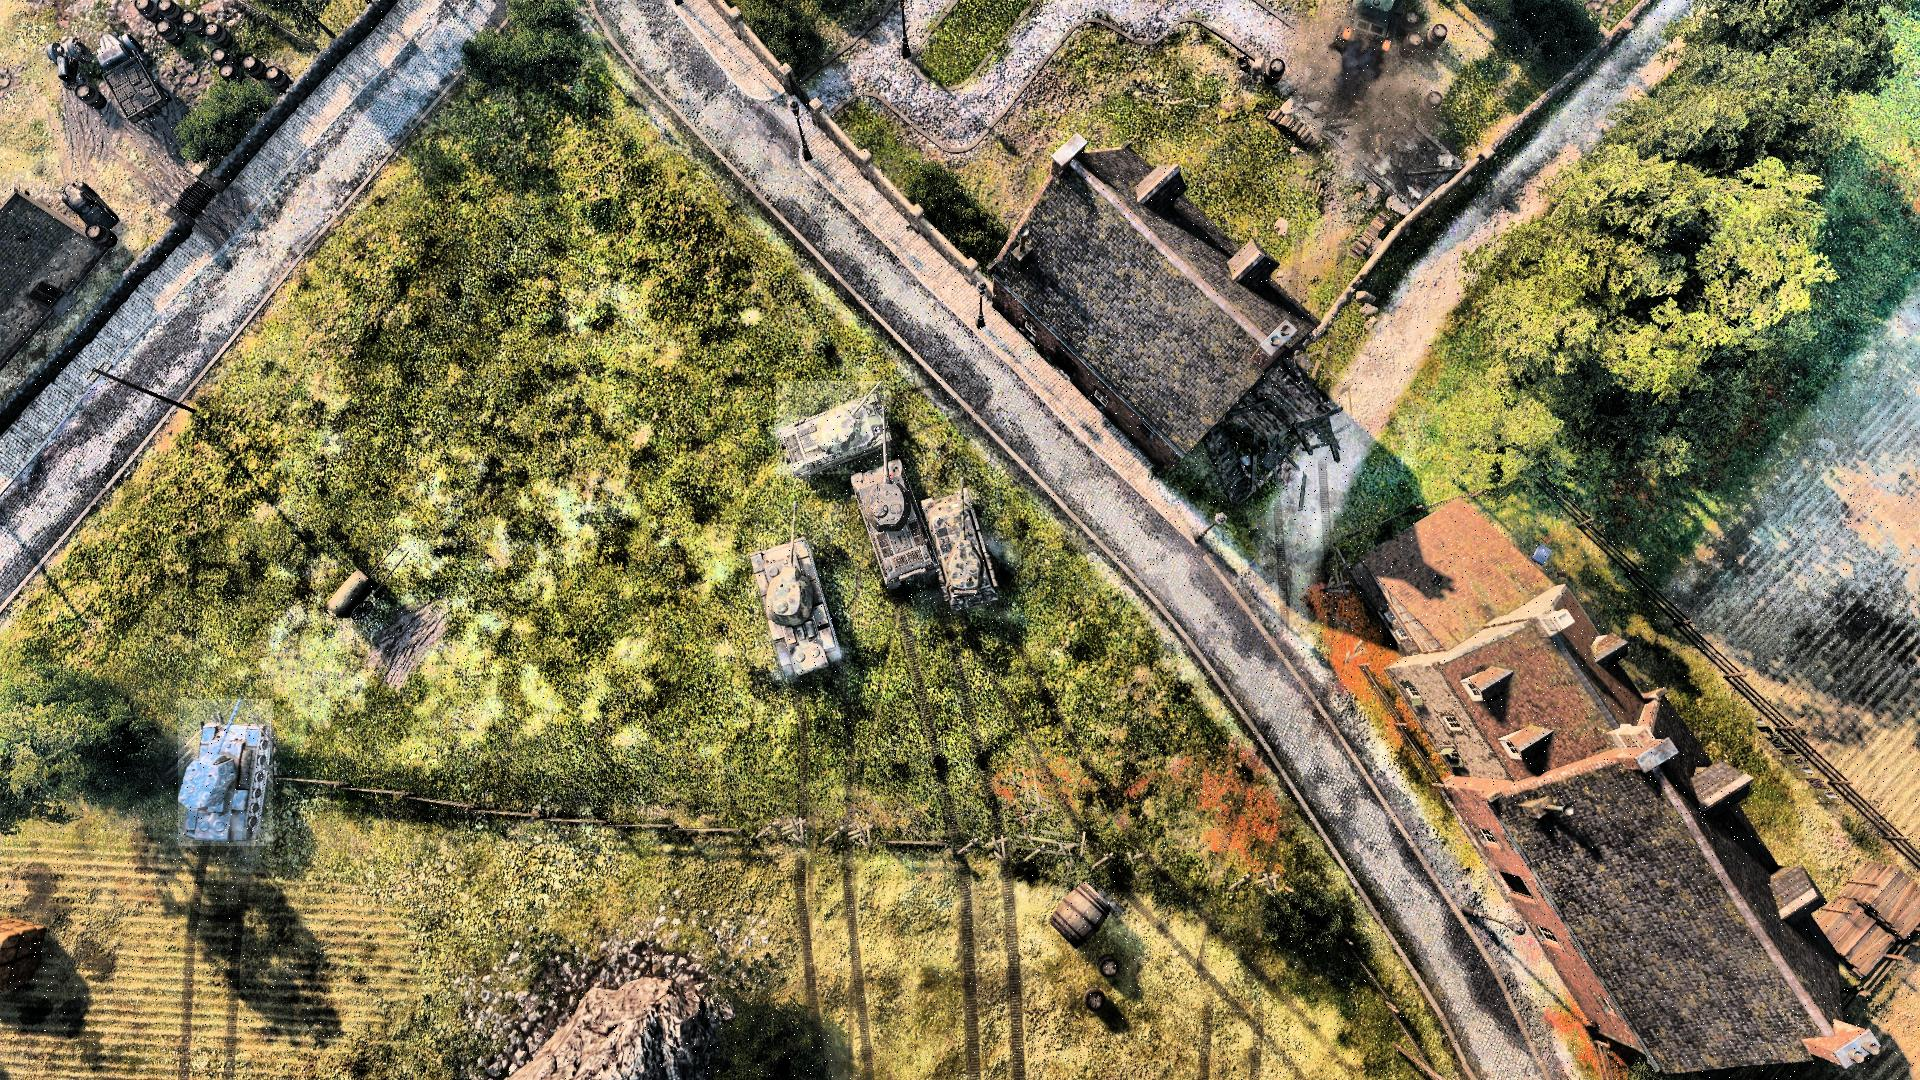military-vehicle: (753, 504, 841, 682), (852, 410, 935, 587), (178, 700, 273, 847), (777, 381, 891, 475), (922, 488, 1002, 615)
